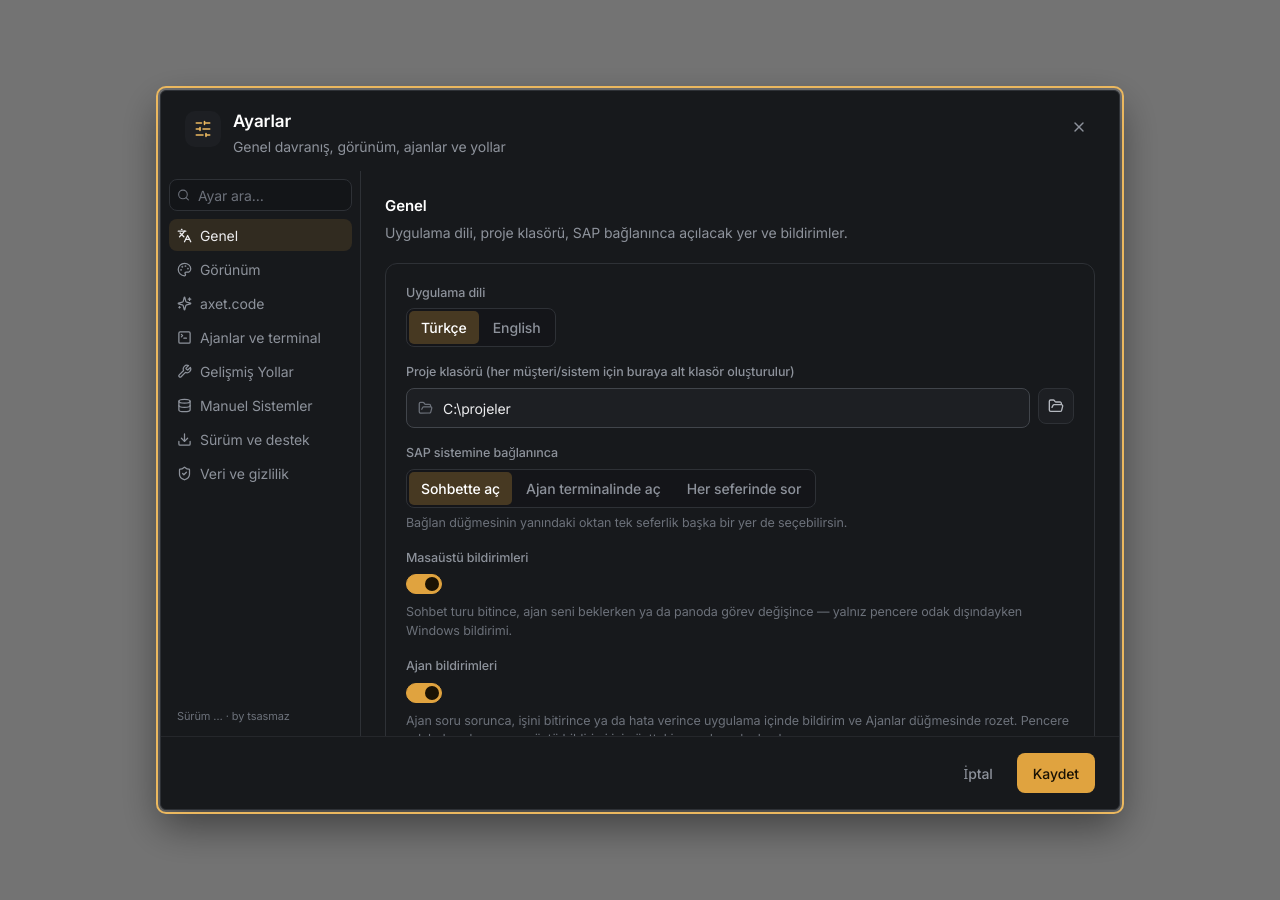
Test: Ayarlar → Görünüm › vurgu grubu dört kartlı, seçili olan işaretli; yazı boyutu ve satır sıklığı burada (Sohbet görünümü katıldı)
Click the tab "Görünüm" at {"x": 260, "y": 269}, box x1=169 y1=253 x2=352 y2=285
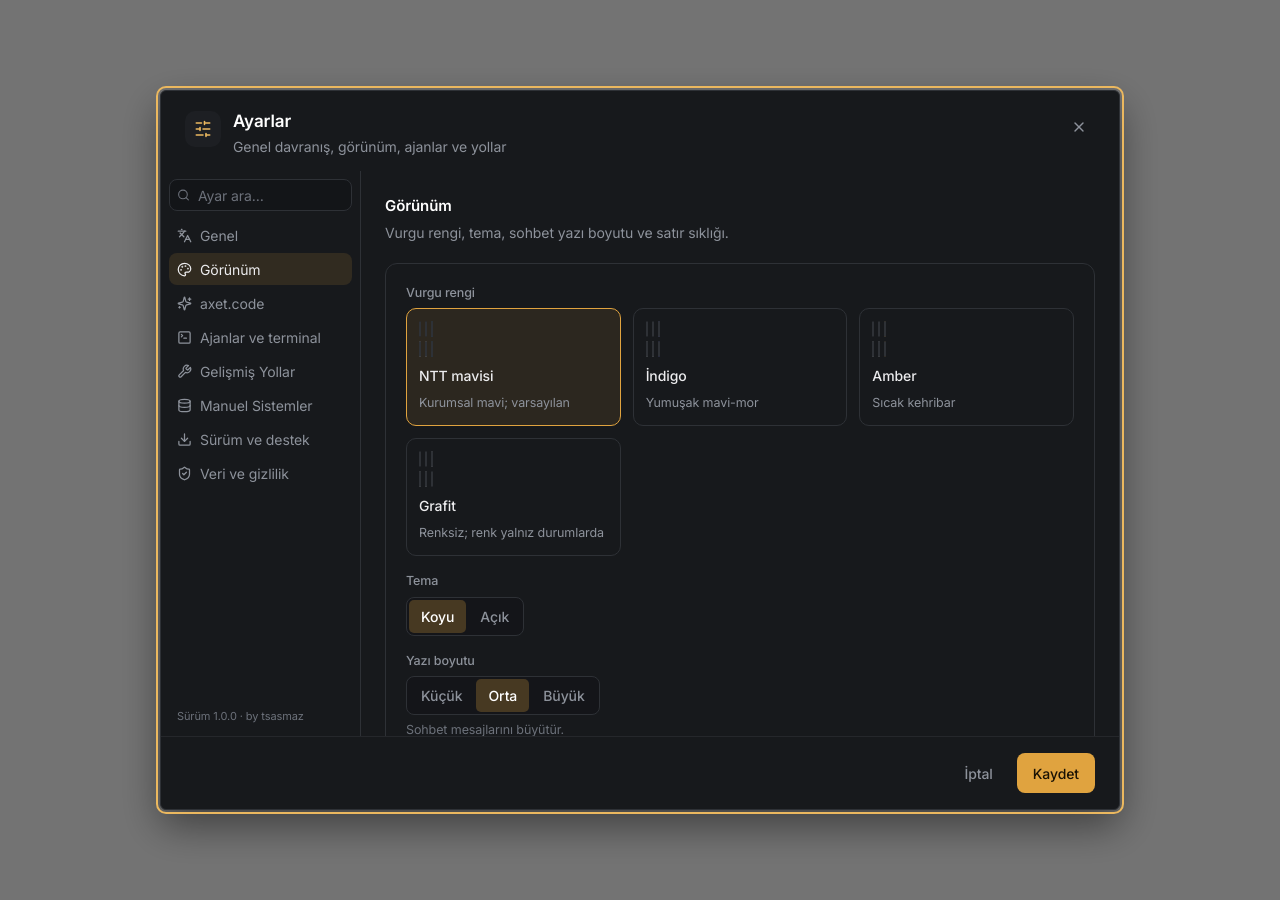
Now the number of radio buttons is 4, box x1=406 y1=308 x2=621 y2=426; x1=633 y1=308 x2=847 y2=426; x1=859 y1=308 x2=1074 y2=426; x1=406 y1=438 x2=621 y2=556
Now the text "Yazı boyutu" is shown, box x1=406 y1=652 x2=475 y2=668
